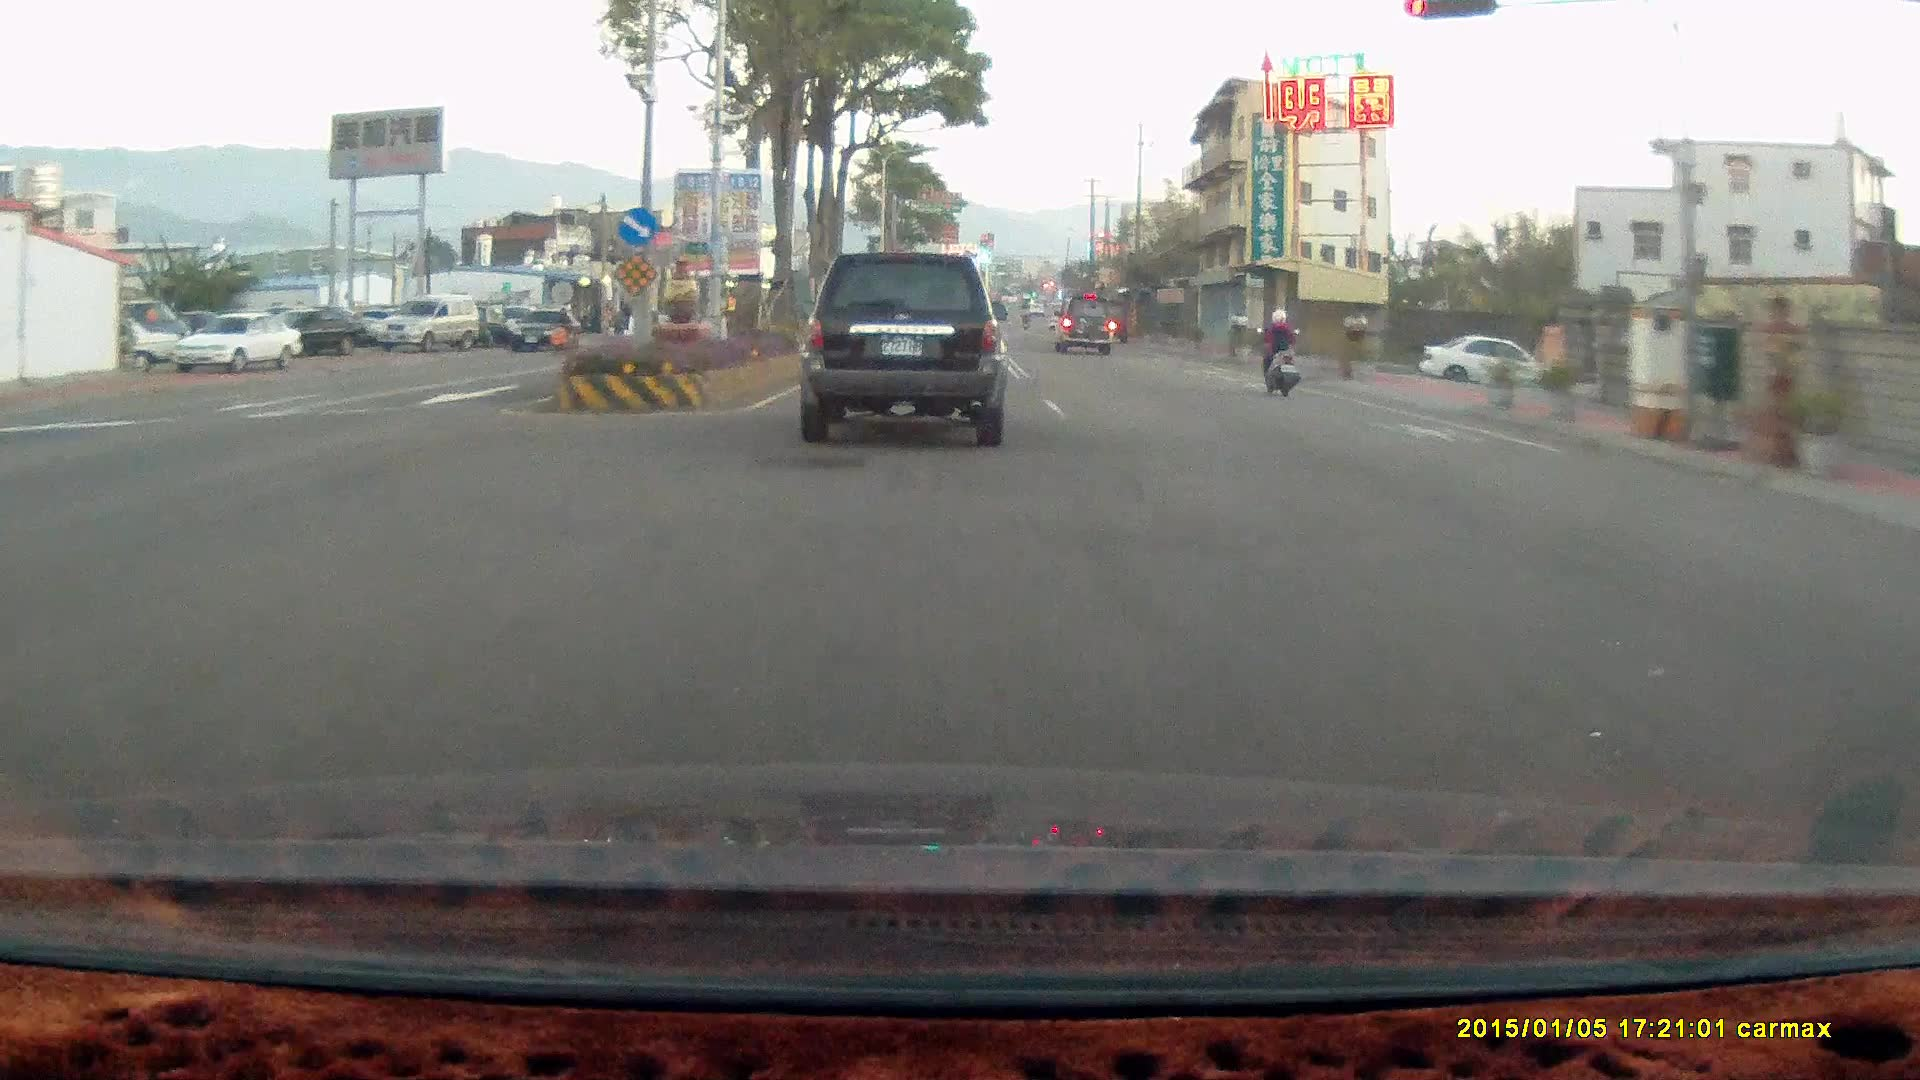rider: (1246, 300, 1310, 404), (1252, 301, 1297, 393), (546, 300, 576, 355)
vehicle: (794, 245, 1010, 447), (793, 250, 1008, 445), (174, 309, 305, 374), (171, 310, 303, 374), (1424, 336, 1571, 393), (1416, 332, 1563, 389), (377, 291, 483, 348), (373, 294, 478, 351), (275, 302, 373, 357), (268, 306, 378, 354), (1050, 291, 1114, 351), (1057, 294, 1115, 357), (514, 306, 586, 355), (512, 304, 583, 349)
